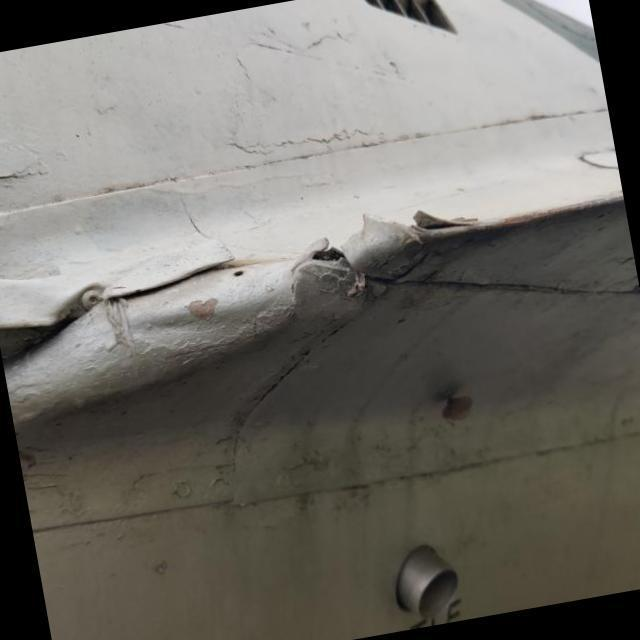Rupture: (349, 167, 502, 271), (276, 212, 370, 300)
